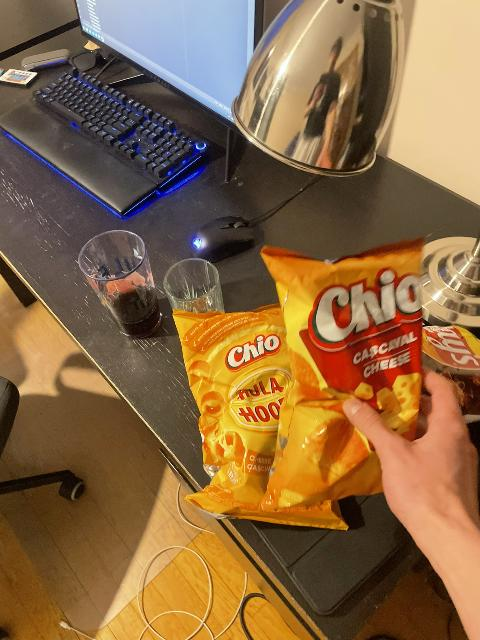Chio Cascaval 125g: (251, 248, 423, 517)
Chio Hula Hoops Cheese 70g: (177, 303, 347, 531)
Lays Beef Grilled Ribs 125g: (417, 318, 480, 426)
